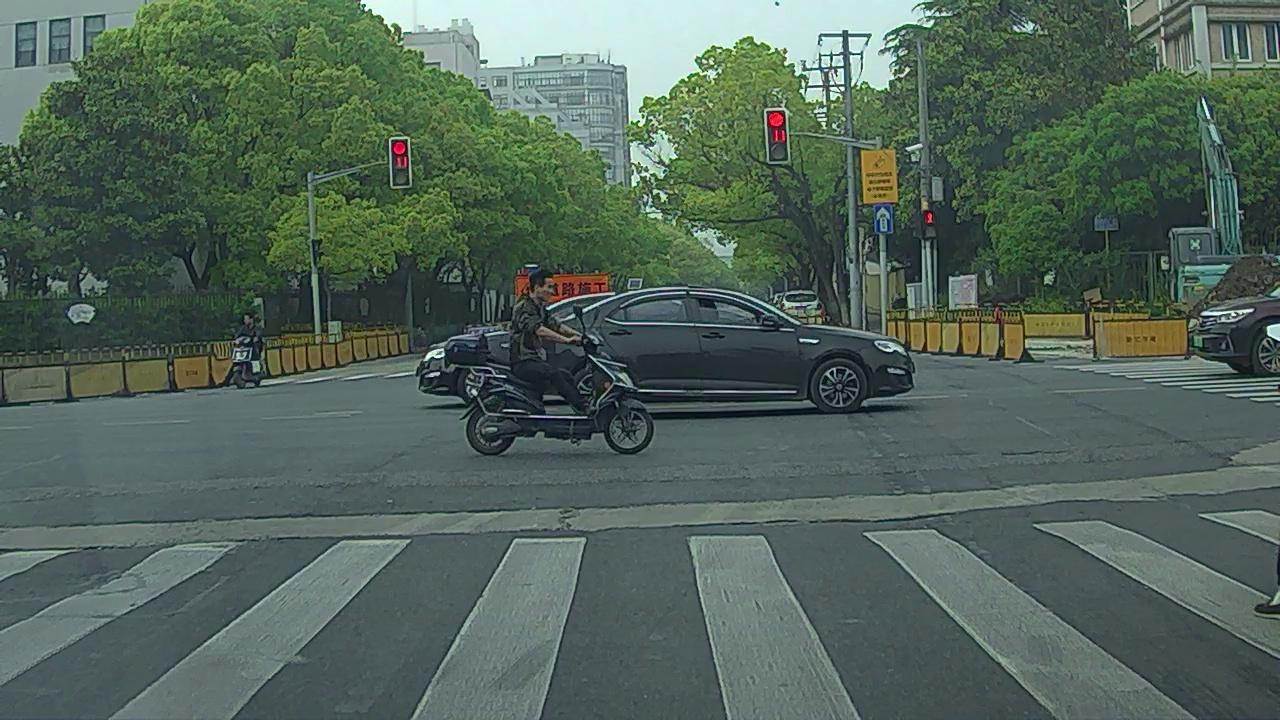traffic_light: (766, 110, 788, 161), (393, 140, 411, 186)
